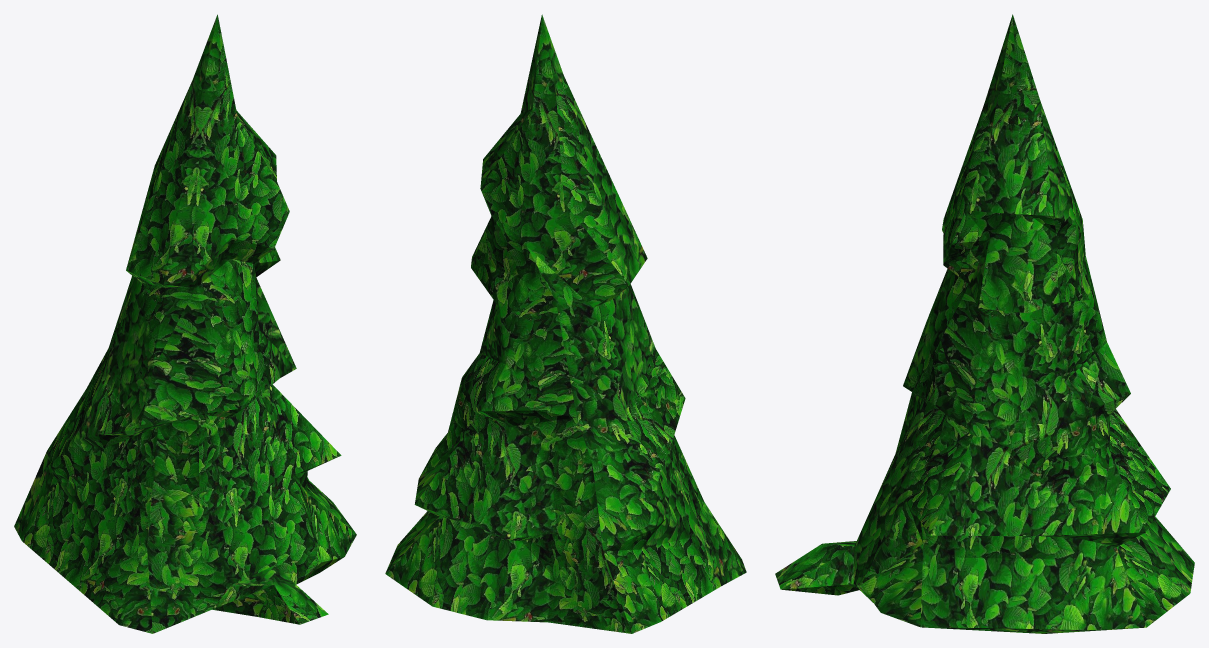
Rendered from tree2.glb.
The picture shows the model from 3 angles, left to right: view 1: azimuth 30°, elevation 25°; view 2: azimuth 150°, elevation 25°; view 3: azimuth 270°, elevation 25°; orthographic projection. The views are drawn at different scales.
Visible parts, largest first — view 1: geometry_0.016; view 2: geometry_0.016; view 3: geometry_0.016.
Part boxes in pixels (bbox=[...]): geometry_0.016: bbox=[14, 14, 356, 633]; geometry_0.016: bbox=[385, 14, 746, 633]; geometry_0.016: bbox=[775, 14, 1194, 633].
Bounding box in the file's own units: 0.9418 × 1.85 × 1.19.
Materials: 1 (1 with a texture image).
